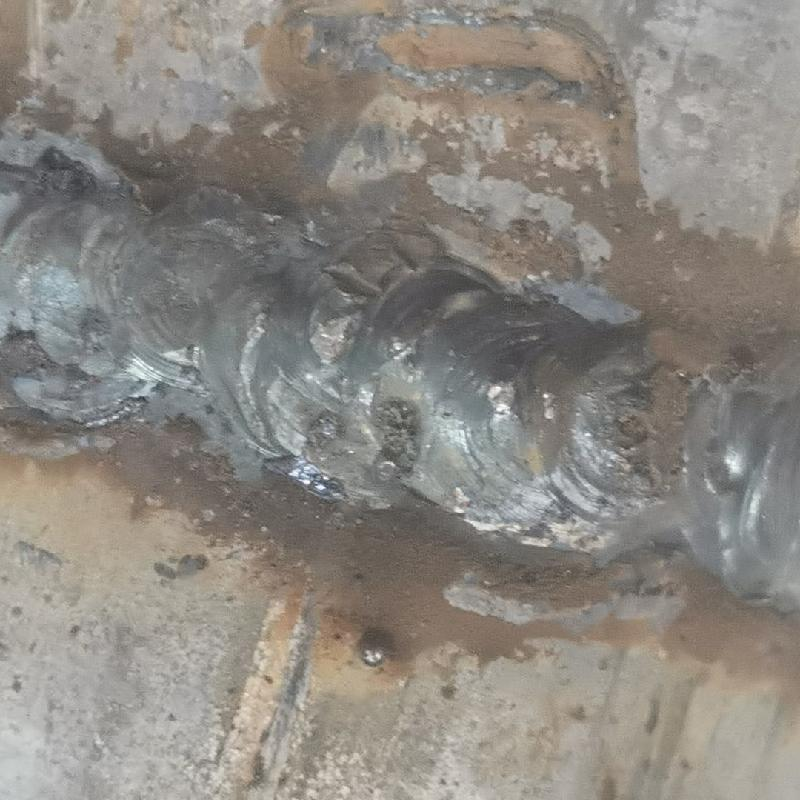good: (3, 140, 799, 604)
